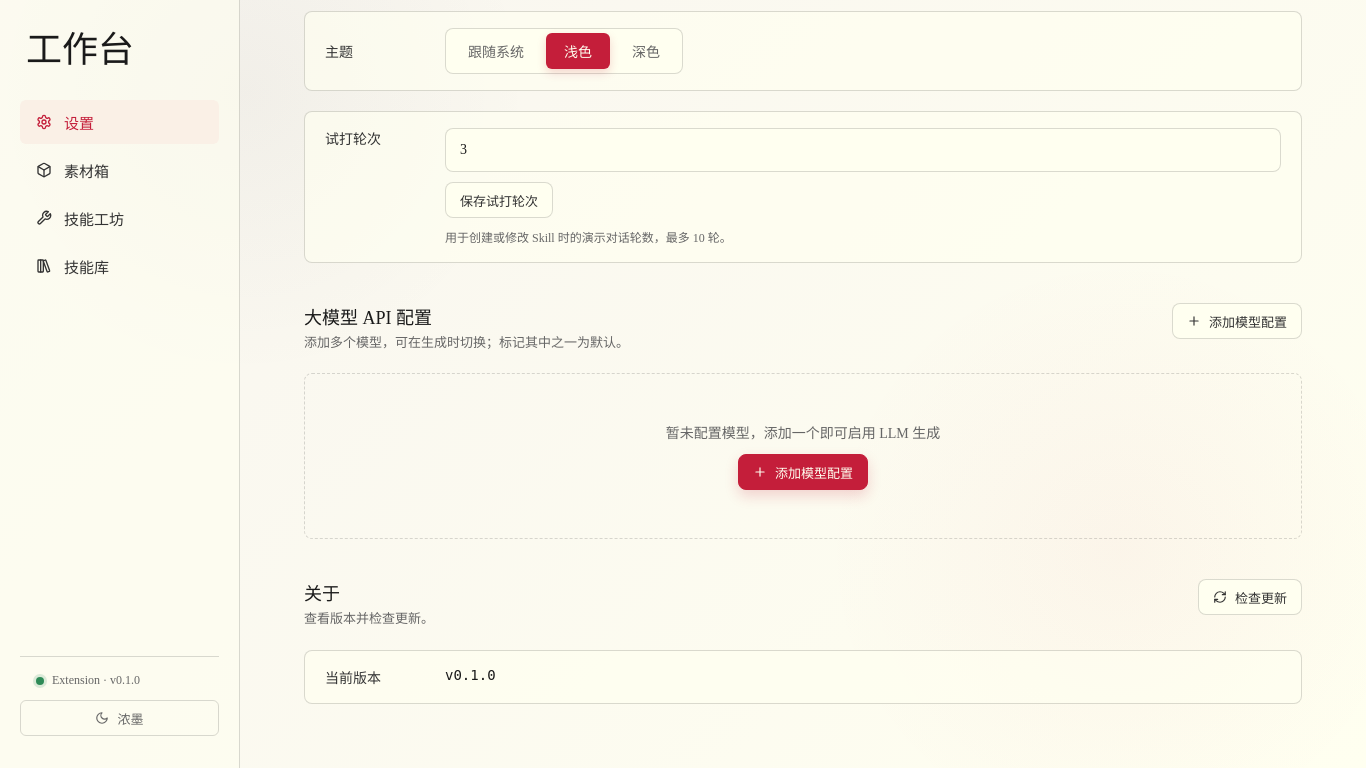
Test: Workbench App › checks for updates from the settings about section
(page scrolled)
Click the button "检查更新" at point(1250, 597), box [1198,579,1302,615]
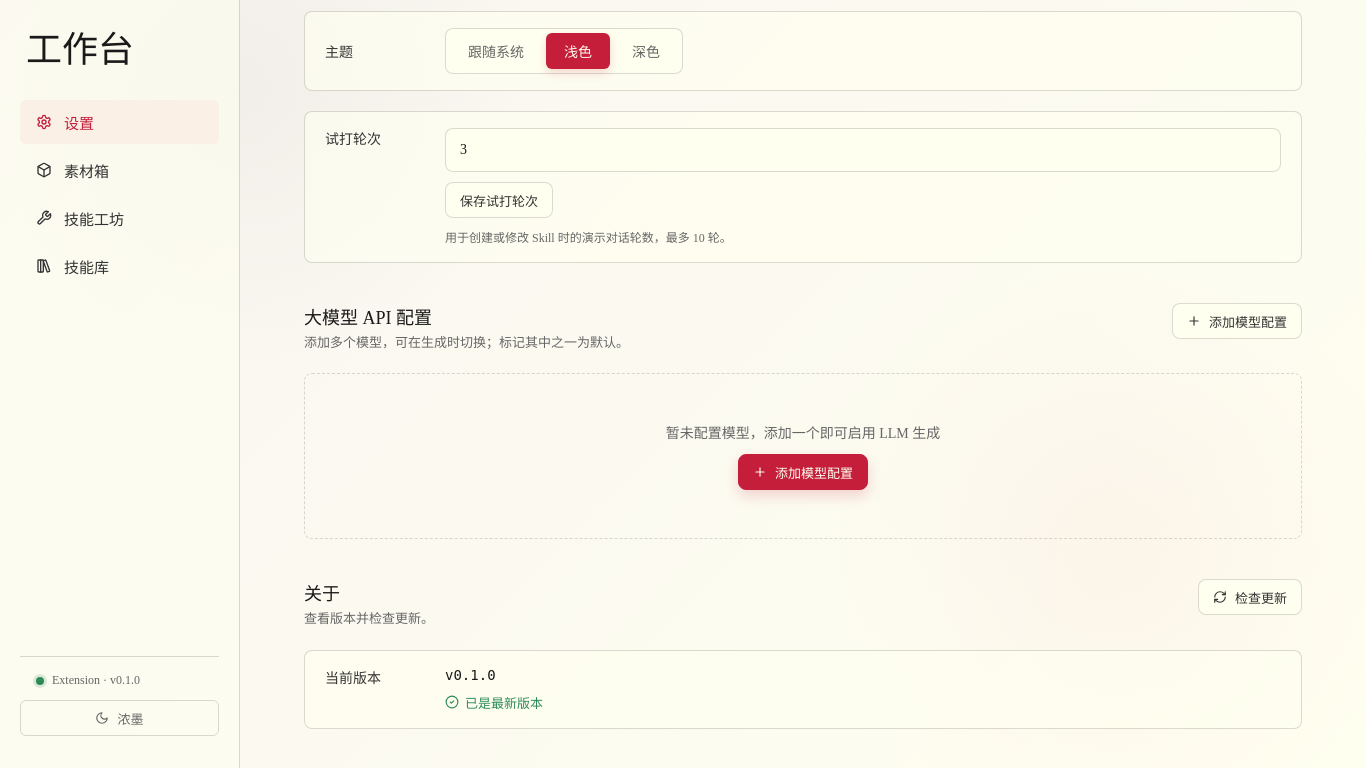
Now the text "已是最新版本" is shown, box [445,695,543,710]
